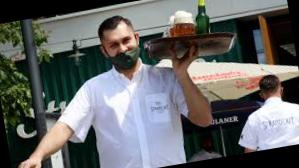mask_weared_incorrect: (105, 32, 142, 69)
